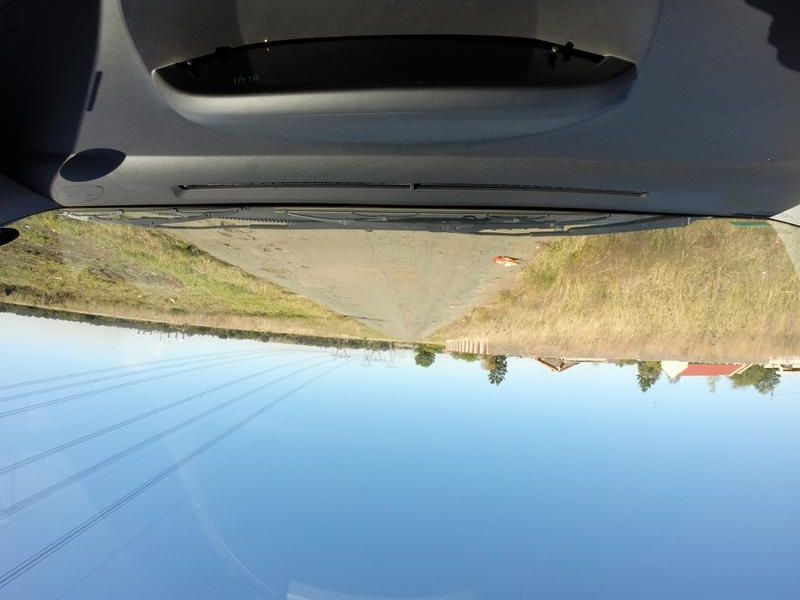pothole: (227, 222, 249, 233), (259, 265, 291, 270), (303, 260, 315, 270), (274, 274, 290, 281), (223, 241, 235, 249), (265, 249, 273, 254)
